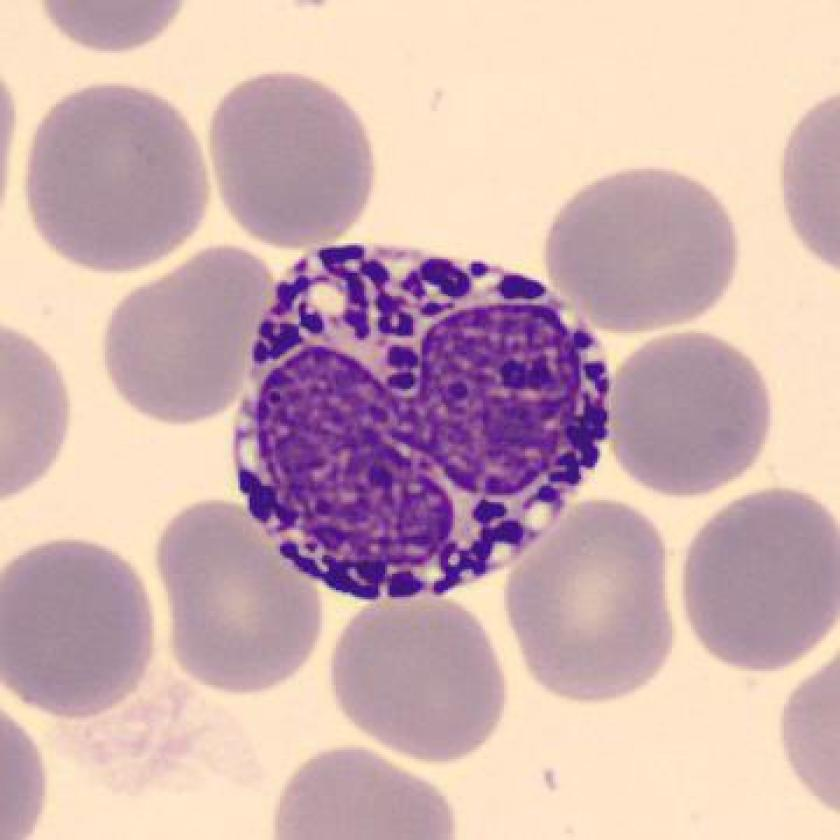basophil: (227, 223, 615, 610)
